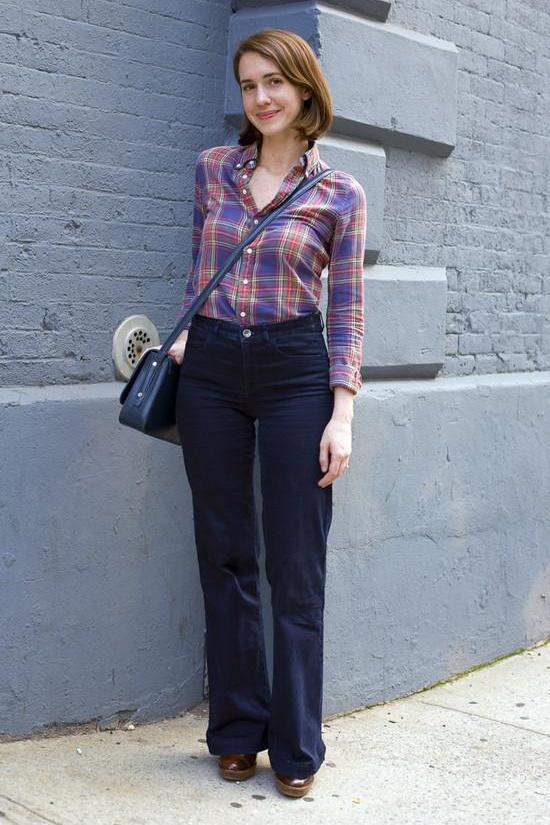pants: (180, 314, 336, 777)
shirt: (181, 139, 367, 392)
